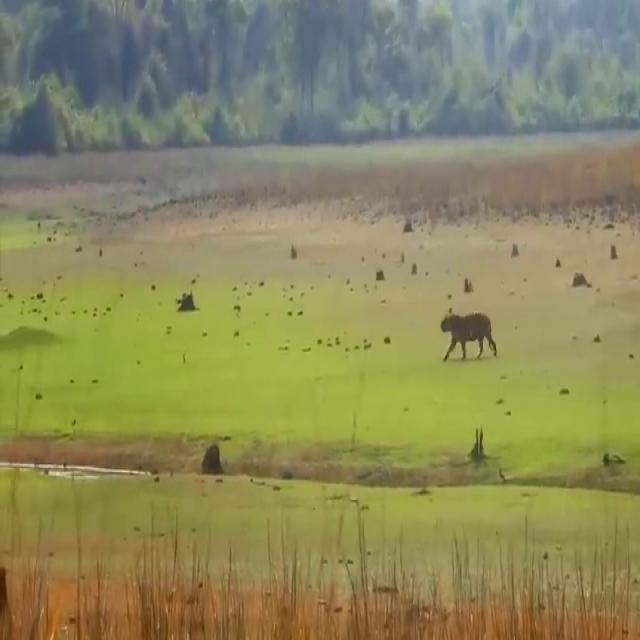tiger: (440, 312, 497, 362)
